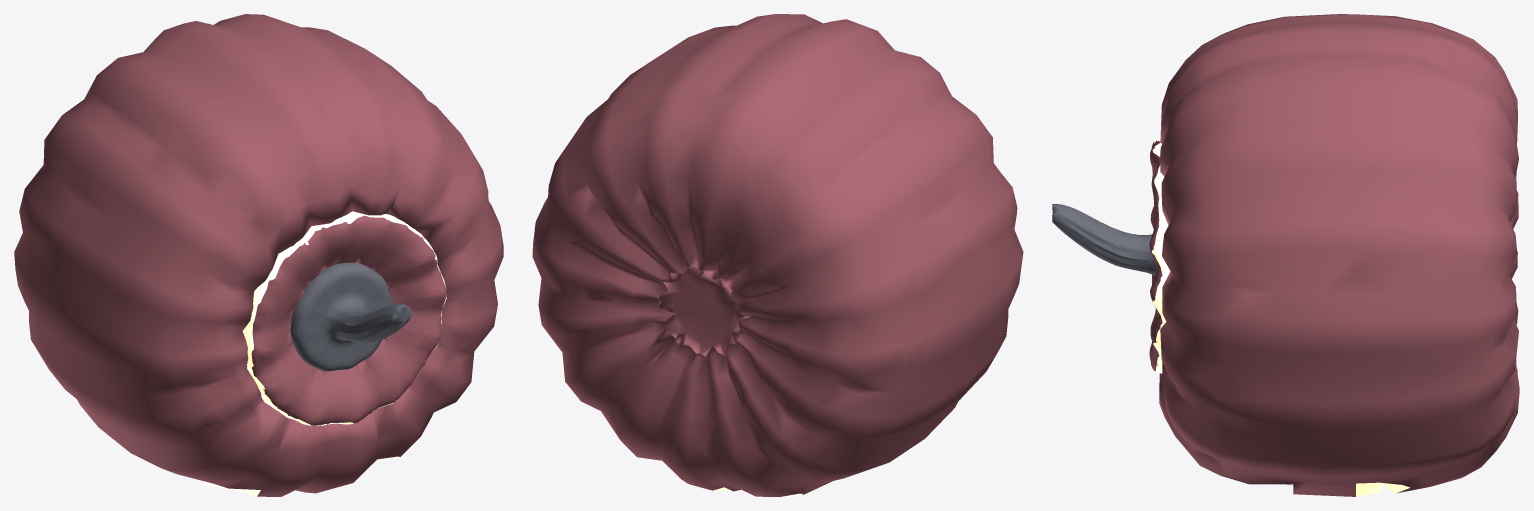
The model's file is float-ringP.glb.
3 views of the same model, side by side, from view 1: azimuth 30°, elevation 25°; view 2: azimuth 150°, elevation 25°; view 3: azimuth 270°, elevation 25° (orthographic). The views are drawn at different scales.
Parts seen in each view (by area): view 1: Top; view 2: Top; view 3: Top.
Boxes of the visible parts, x1=… form: Top: x1=14, y1=14, x2=503, y2=496; Top: x1=532, y1=14, x2=1023, y2=496; Top: x1=1052, y1=14, x2=1519, y2=496.
Size of the model in its own units: 0.7435 by 0.7479 by 0.7226.
